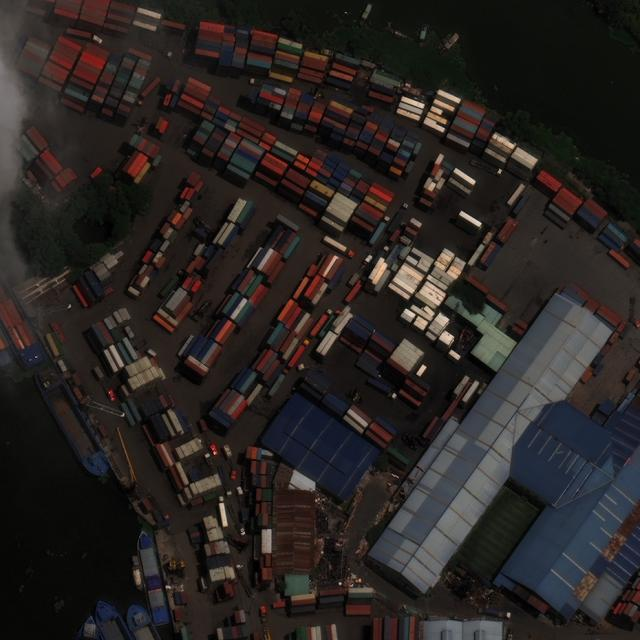Cargo: (33, 362, 113, 483), (134, 528, 173, 628), (95, 600, 134, 640), (126, 605, 164, 640), (76, 615, 100, 640)
Container Ship: (1, 266, 51, 371), (1, 319, 16, 367)
Other Ship: (129, 554, 146, 593), (438, 32, 460, 56), (359, 4, 374, 28), (434, 33, 452, 52), (417, 23, 429, 47)
